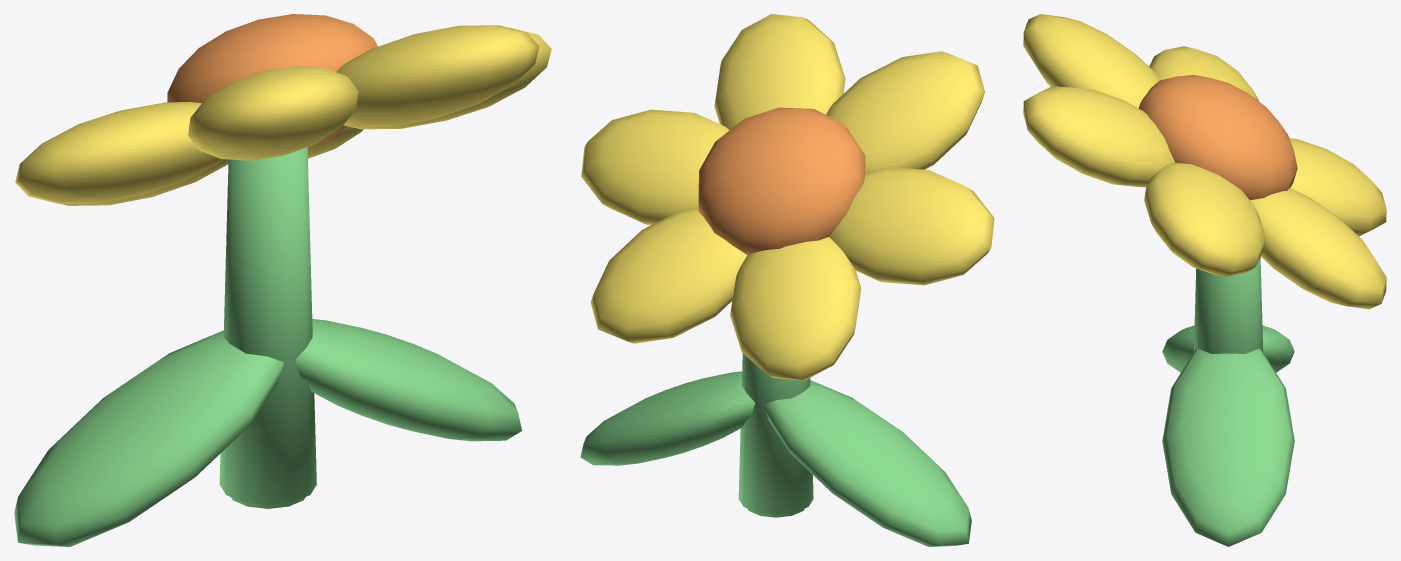
Rendered from flower_daisy_yellow.glb.
The picture shows the model from 3 angles, left to right: view 1: azimuth 30°, elevation 25°; view 2: azimuth 150°, elevation 25°; view 3: azimuth 270°, elevation 25°; orthographic projection. The views are drawn at different scales.
Visible parts, largest first — view 1: Leaf_-1, Stem, Leaf_1, Petal_5, Petal_3, Petal_4, ButtonCenter, Petal_0, Petal_2, Petal_1; view 2: ButtonCenter, Leaf_-1, Petal_2, Petal_3, Petal_1, Petal_4, Petal_0, Petal_5, Leaf_1, Stem; view 3: Leaf_1, ButtonCenter, Petal_5, Petal_0, Petal_1, Petal_4, Stem, Petal_2, Petal_3, Leaf_-1.
Part boxes in pixels (<box>): Leaf_-1: <box>14,330,283,546</box>; Stem: <box>219,147,316,508</box>; Leaf_1: <box>295,319,522,441</box>; Petal_5: <box>336,25,539,127</box>; Petal_3: <box>15,102,223,203</box>; Petal_4: <box>188,66,358,160</box>; ButtonCenter: <box>167,14,377,144</box>; Petal_0: <box>353,27,551,129</box>; Petal_2: <box>59,159,228,205</box>; Petal_1: <box>307,126,363,158</box>; ButtonCenter: <box>698,107,865,254</box>; Leaf_-1: <box>764,380,971,546</box>; Petal_2: <box>730,237,861,380</box>; Petal_3: <box>829,167,994,285</box>; Petal_1: <box>590,207,747,343</box>; Petal_4: <box>826,51,984,172</box>; Petal_0: <box>581,109,729,225</box>; Petal_5: <box>714,14,845,130</box>; Leaf_1: <box>580,371,754,465</box>; Stem: <box>738,353,813,517</box>; Leaf_1: <box>1162,349,1294,546</box>; ButtonCenter: <box>1138,75,1297,200</box>; Petal_5: <box>1023,86,1175,187</box>; Petal_0: <box>1144,162,1265,276</box>; Petal_1: <box>1250,188,1386,309</box>; Petal_4: <box>1023,14,1161,108</box>; Stem: <box>1194,257,1263,353</box>; Petal_2: <box>1289,138,1386,236</box>; Petal_3: <box>1149,46,1258,101</box>; Leaf_-1: <box>1162,325,1294,372</box>.
Bounding box in the file's own units: 0.4 × 0.3754 × 0.3086.
